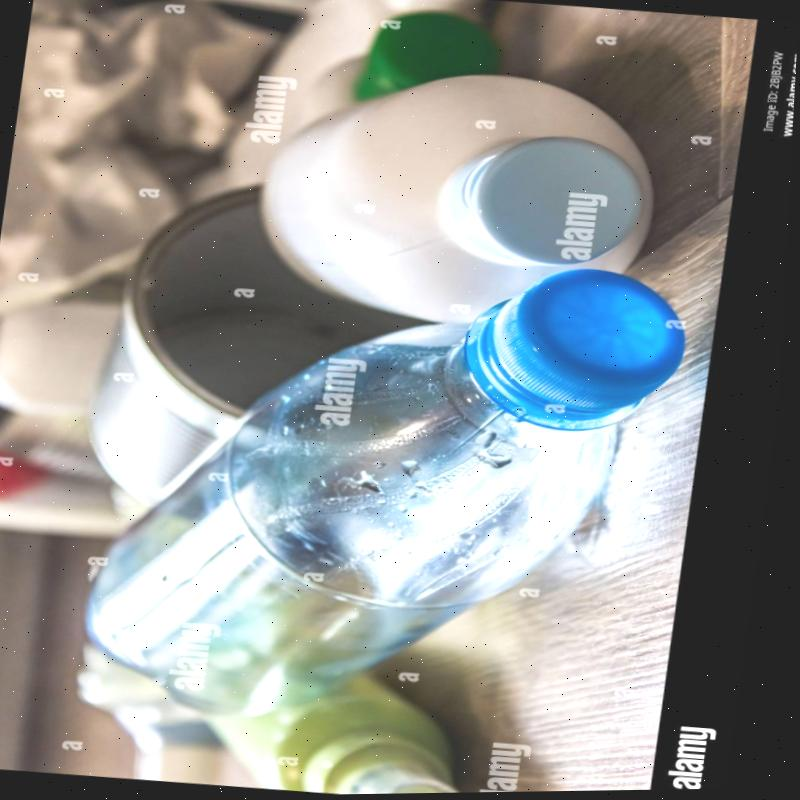botella: (78, 227, 693, 758)
